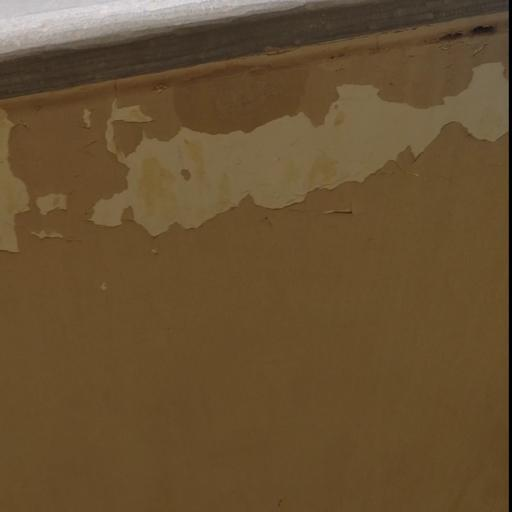peeling: (0, 48, 512, 263)
